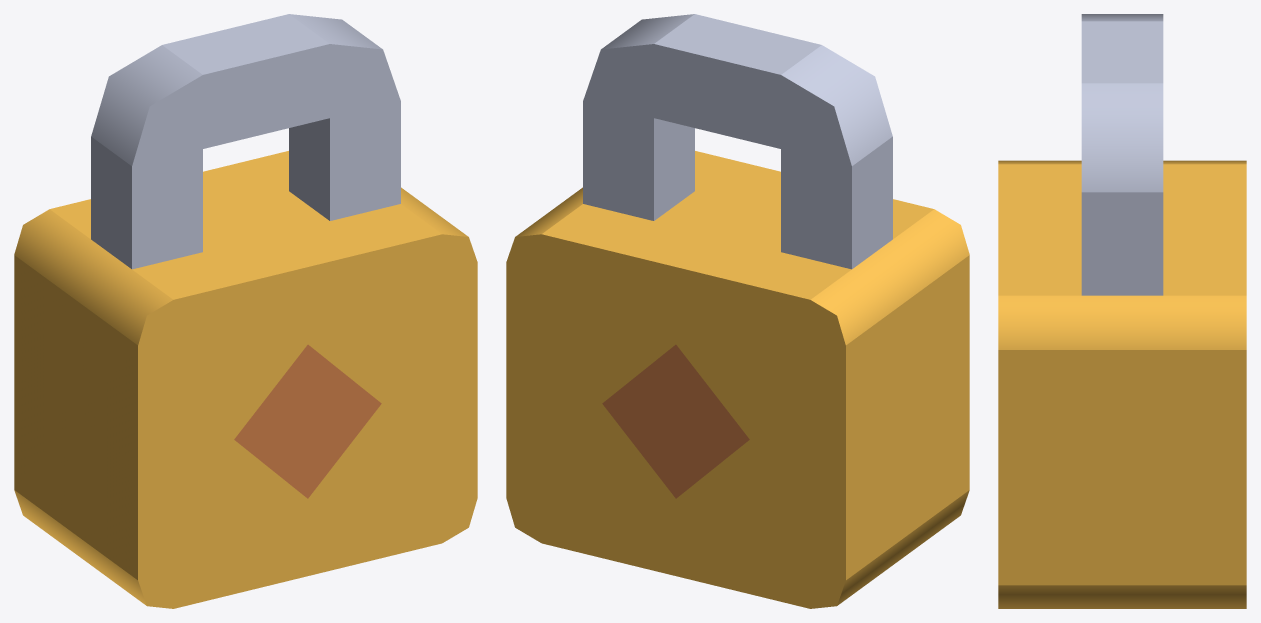
Rendered from lock.fbx.
The picture shows the model from 3 angles, left to right: view 1: azimuth 30°, elevation 25°; view 2: azimuth 150°, elevation 25°; view 3: azimuth 270°, elevation 25°; orthographic projection.
Visible parts, largest first — view 1: lock; view 2: lock; view 3: lock.
Boxes of the visible parts, left/top/right/bottom form: lock: left=14, top=14, right=477, bottom=608; lock: left=506, top=14, right=969, bottom=608; lock: left=998, top=14, right=1246, bottom=608.
Size of the model in its own units: 2.93 by 4.01 by 1.85.
